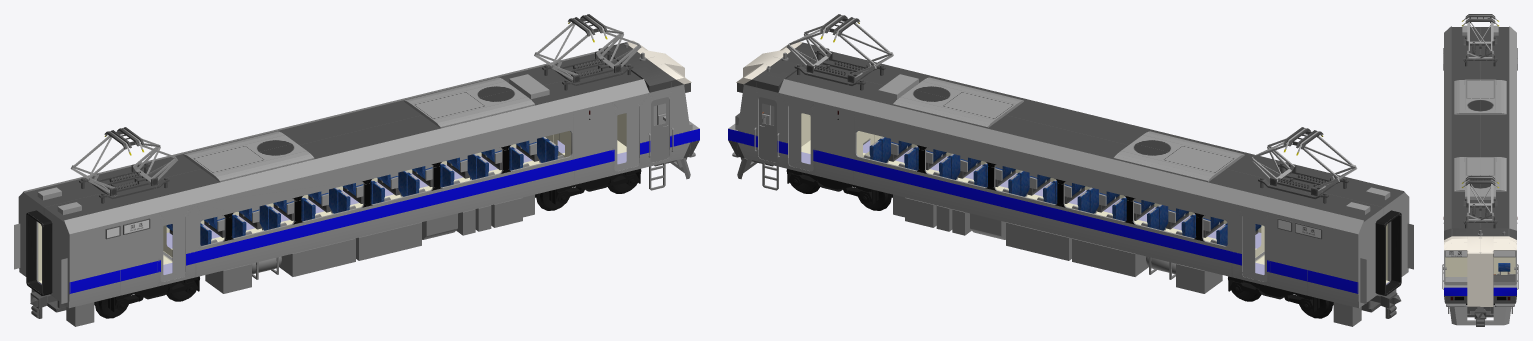
The picture shows the model from 3 angles, left to right: view 1: azimuth 30°, elevation 25°; view 2: azimuth 150°, elevation 25°; view 3: azimuth 270°, elevation 25°; orthographic projection. The views are drawn at different scales.
Visible parts, largest first — view 1: Body0_outer, AirCon, UF_equip, Seat, horo_UA, door.R, Floor, panto_0_front, panto_0_back, frame_out, frame_out.001, glass-door_UA (+7 smaller); view 2: Body0_outer, AirCon, UF_equip, Seat, horo_UA, door.L, Floor, panto_0_front, panto_0_back, frame_out, frame_out.001, glass-door_UA (+7 smaller); view 3: Body0_outer, AirCon, Skirt, OF_equip, C_door.R, C_door.L, Sept, panto_0_back, panto_0_front, Coupler, con_base, panto_3_back (+8 smaller).
Part boxes in pixels (left/top/right/bottom): Body0_outer: left=18, top=40, right=699, bottom=308; AirCon: left=37, top=74, right=549, bottom=214; UF_equip: left=31, top=163, right=665, bottom=326; Seat: left=166, top=137, right=564, bottom=245; horo_UA: left=14, top=210, right=67, bottom=303; door.R: left=160, top=104, right=639, bottom=281; Floor: left=38, top=140, right=626, bottom=284; panto_0_front: left=542, top=49, right=633, bottom=90; panto_0_back: left=79, top=162, right=169, bottom=203; frame_out: left=549, top=169, right=640, bottom=204; frame_out.001: left=108, top=276, right=199, bottom=311; glass-door_UA: left=650, top=97, right=669, bottom=162; Body0_outer: left=728, top=40, right=1409, bottom=308; AirCon: left=878, top=74, right=1390, bottom=214; UF_equip: left=762, top=163, right=1396, bottom=326; Seat: left=863, top=137, right=1261, bottom=245; horo_UA: left=1360, top=210, right=1413, bottom=303; door.L: left=788, top=104, right=1267, bottom=281; Floor: left=801, top=140, right=1389, bottom=284; panto_0_front: left=794, top=49, right=885, bottom=90; panto_0_back: left=1258, top=162, right=1348, bottom=203; frame_out: left=787, top=169, right=878, bottom=204; frame_out.001: left=1228, top=276, right=1319, bottom=311; glass-door_UA: left=758, top=97, right=777, bottom=162; Body0_outer: left=1444, top=26, right=1516, bottom=303; AirCon: left=1454, top=25, right=1506, bottom=199; Skirt: left=1446, top=303, right=1514, bottom=325; OF_equip: left=1442, top=48, right=1518, bottom=301; C_door.R: left=1480, top=252, right=1493, bottom=306; C_door.L: left=1467, top=252, right=1480, bottom=306; Sept: left=1445, top=257, right=1515, bottom=276; panto_0_back: left=1463, top=36, right=1497, bottom=66; panto_0_front: left=1463, top=198, right=1497, bottom=228; Coupler: left=1467, top=307, right=1493, bottom=326; con_base: left=1493, top=263, right=1515, bottom=281; panto_3_back: left=1462, top=14, right=1498, bottom=26.
Bounding box in the file's own units: 21 × 5.19 × 2.94.
